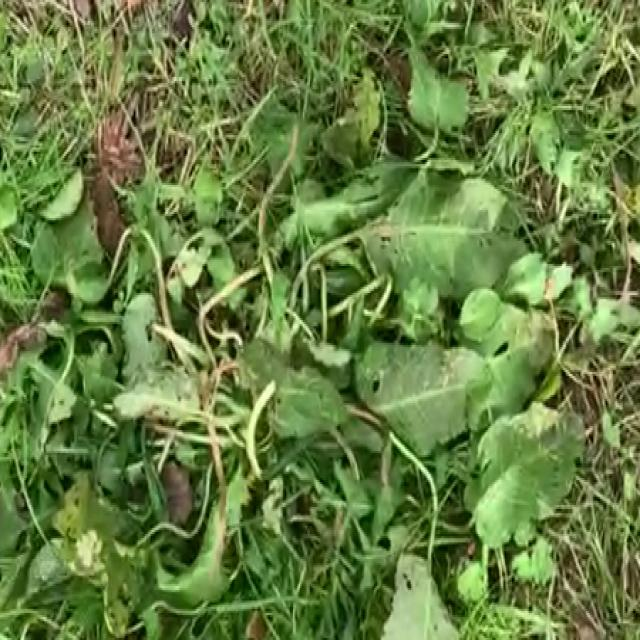organic waste: (9, 91, 603, 640)
